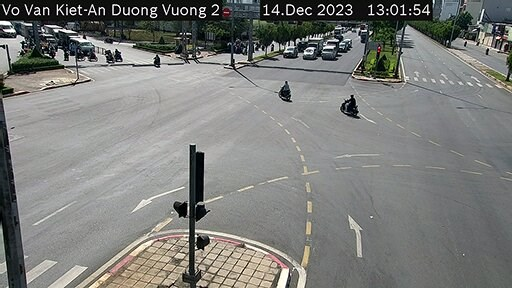car: (325, 40, 337, 57), (304, 46, 317, 58), (283, 45, 294, 58)
motorbike: (339, 91, 362, 113), (276, 78, 293, 98)
